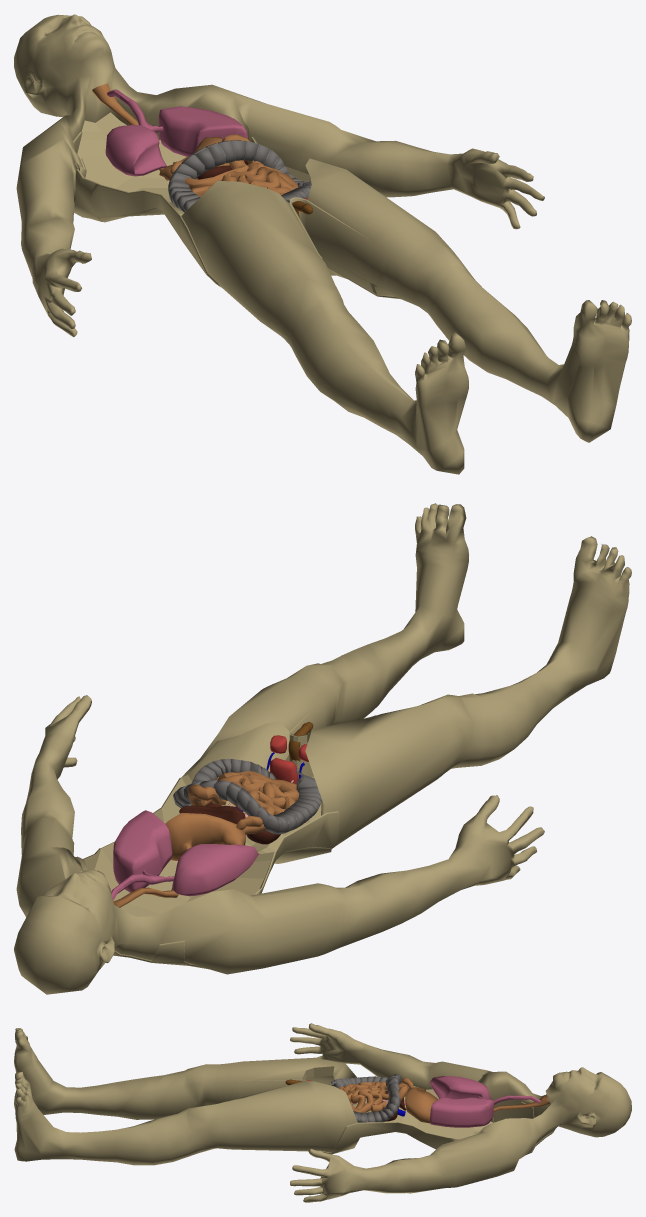
File: human body in.fbx
3 views of the same model, one above another, from view 1: azimuth 30°, elevation 25°; view 2: azimuth 150°, elevation 25°; view 3: azimuth 270°, elevation 25° (orthographic). The views are drawn at different scales.
Visible parts, largest first — view 1: polySurface1, pasted__pCube3, pasted__polySurface5, pasted__pCylinder1, pasted__polySurface8; view 2: polySurface1, pasted__pCube3, pasted__polySurface5, pasted__polySurface8, pasted__pCylinder1, pasted__polySurface3; view 3: polySurface1, pasted__pCube3, pasted__polySurface5, pasted__pCylinder1, pasted__polySurface8.
Part boxes in pixels (x1,y1,x2,y2): polySurface1: [14, 14, 631, 474]; pasted__pCube3: [105, 89, 247, 176]; pasted__polySurface5: [168, 140, 311, 212]; pasted__pCylinder1: [185, 134, 298, 196]; pasted__polySurface8: [92, 83, 229, 180]; polySurface1: [14, 503, 631, 994]; pasted__pCube3: [111, 810, 258, 900]; pasted__polySurface5: [173, 758, 321, 834]; pasted__polySurface8: [113, 812, 245, 907]; pasted__pCylinder1: [188, 771, 299, 834]; pasted__polySurface3: [179, 805, 245, 824]; polySurface1: [14, 1023, 631, 1202]; pasted__pCube3: [429, 1076, 540, 1127]; pasted__polySurface5: [329, 1074, 401, 1122]; pasted__pCylinder1: [338, 1081, 408, 1112]; pasted__polySurface8: [405, 1087, 549, 1123].
Bounding box in the file's own units: 120 × 37.97 × 215.
